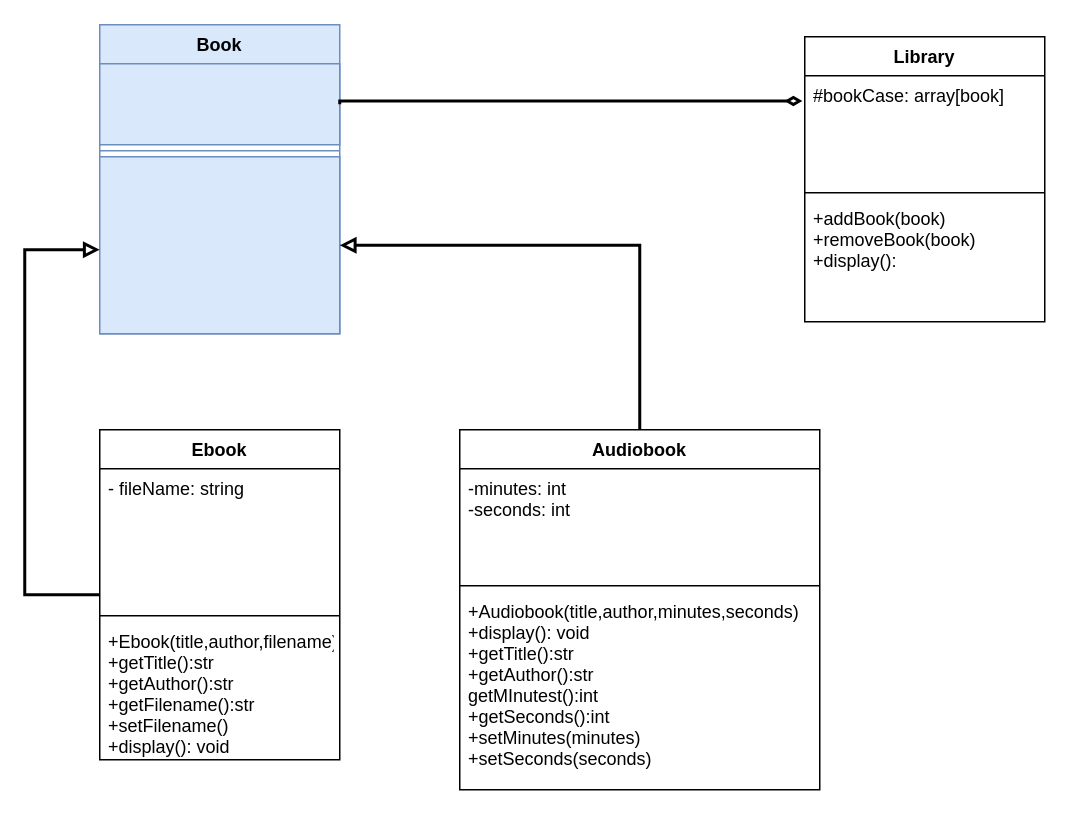
Some shapes in this 1070 by 815 pixel diagram are drawn without their labels. The shapes that lost their labels are listed below. From the top down, each one's centre as x and y in pixels, then its label:
At point (219, 103): "# title: string # author: string".
At point (219, 244): "+Book(title,author) +getTitle(): str +getAuthor(): str +display(): void".
